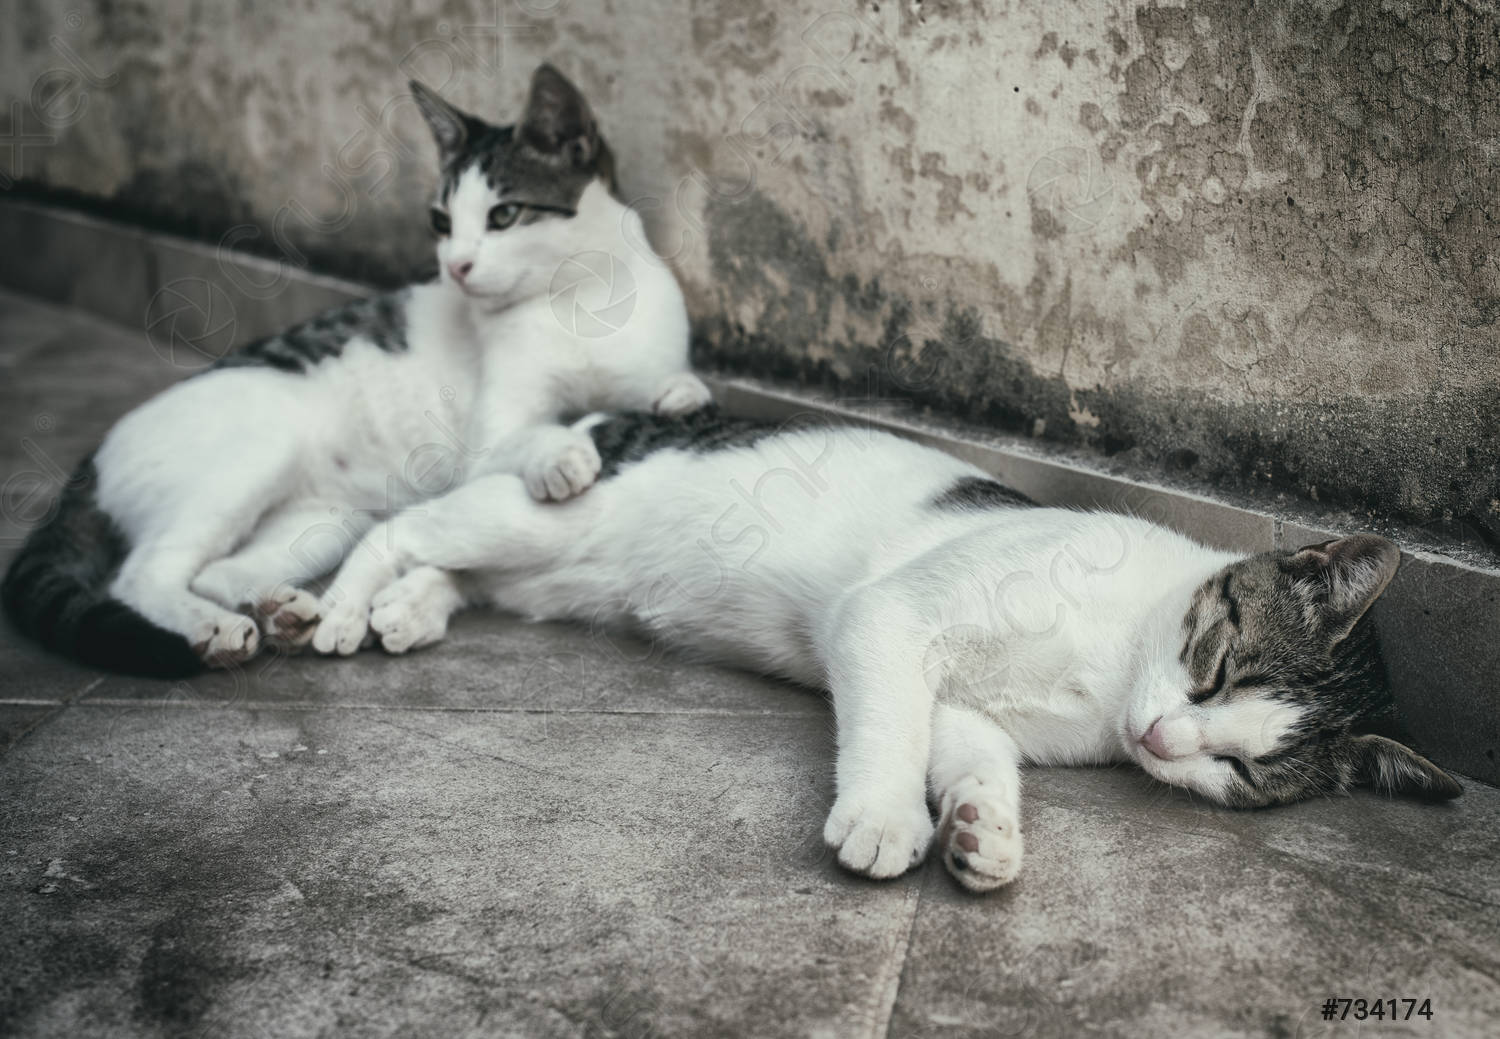cat: (299, 467, 1436, 824), (33, 79, 712, 643)
